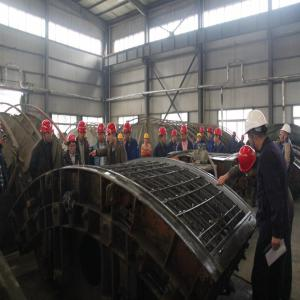red: (240, 146, 257, 179), (41, 120, 54, 143), (68, 135, 78, 155), (108, 124, 117, 145), (78, 121, 87, 141), (97, 124, 106, 142), (124, 123, 133, 141), (214, 128, 223, 145), (160, 128, 168, 144), (181, 126, 189, 142), (172, 130, 178, 142), (208, 127, 214, 139), (200, 127, 205, 137), (233, 132, 237, 138), (242, 135, 245, 143)
white: (246, 111, 268, 150), (281, 125, 292, 141)
yellow: (197, 133, 203, 143), (144, 133, 150, 143), (119, 134, 124, 143)
